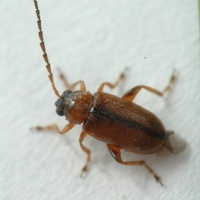insect: (31, 0, 186, 185)
